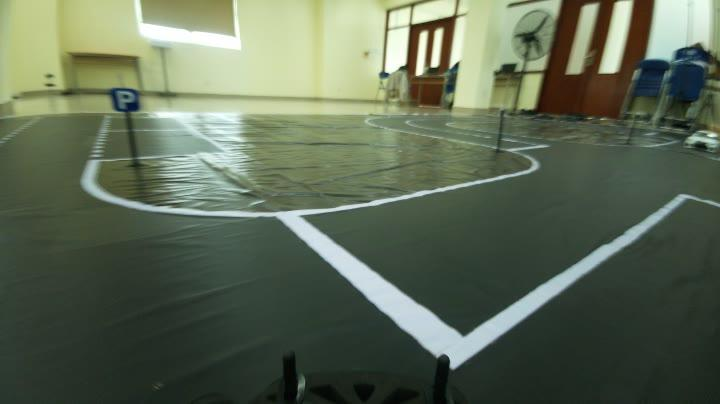parking: (109, 78, 147, 116)
